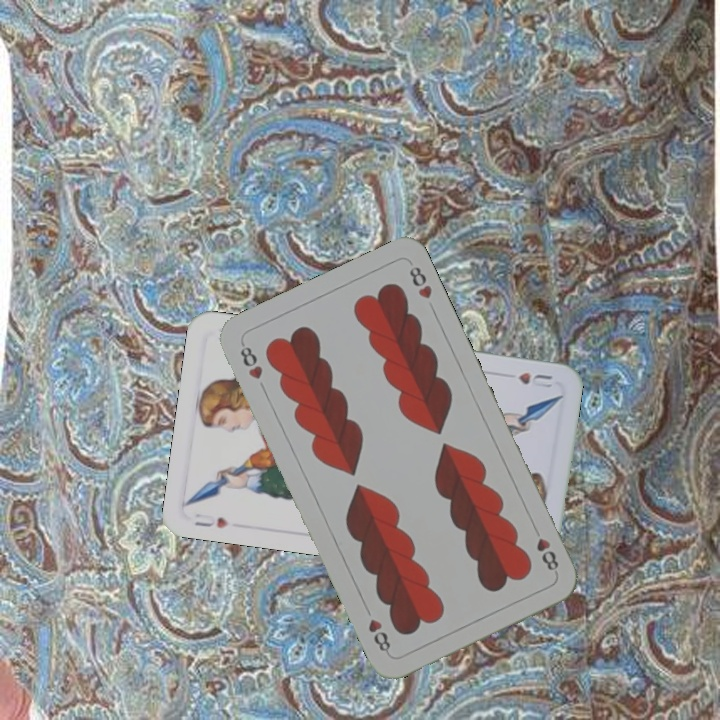H8: (528, 521, 562, 573), (236, 339, 265, 382)
HU: (514, 368, 555, 391), (190, 509, 231, 531)
